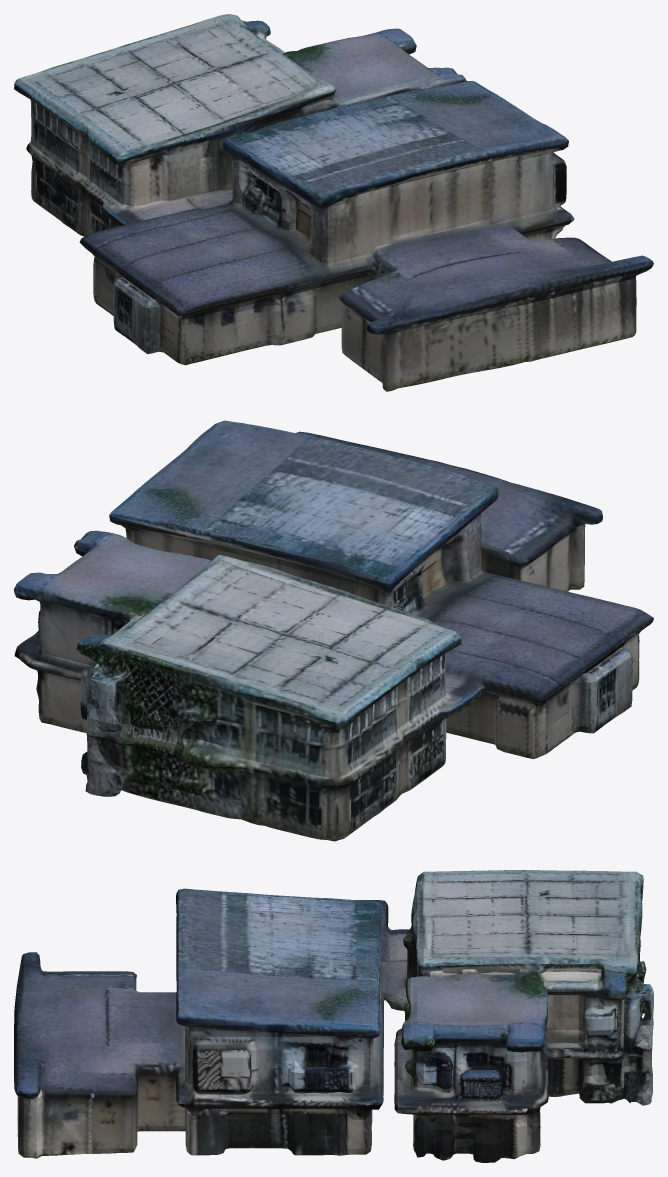
3 views of the same model, one above another, from view 1: azimuth 30°, elevation 25°; view 2: azimuth 150°, elevation 25°; view 3: azimuth 270°, elevation 25° (orthographic). The views are drawn at different scales.
Visible parts, largest first — view 1: tripo_node_dbce333b-0f81-4ab8-96d0-89cec0e98f66; view 2: tripo_node_dbce333b-0f81-4ab8-96d0-89cec0e98f66; view 3: tripo_node_dbce333b-0f81-4ab8-96d0-89cec0e98f66.
Part boxes in pixels (x1,y1,x2,y2): tripo_node_dbce333b-0f81-4ab8-96d0-89cec0e98f66: [14, 14, 653, 391]; tripo_node_dbce333b-0f81-4ab8-96d0-89cec0e98f66: [14, 420, 653, 841]; tripo_node_dbce333b-0f81-4ab8-96d0-89cec0e98f66: [14, 870, 653, 1162].
Bounding box in the file's own units: 0.7678 × 0.2685 × 1.
Materials: 1 (1 with a texture image).
